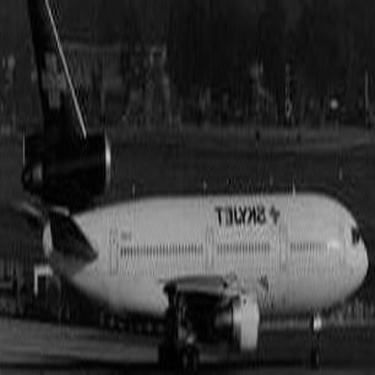airplane: (7, 4, 355, 354)
